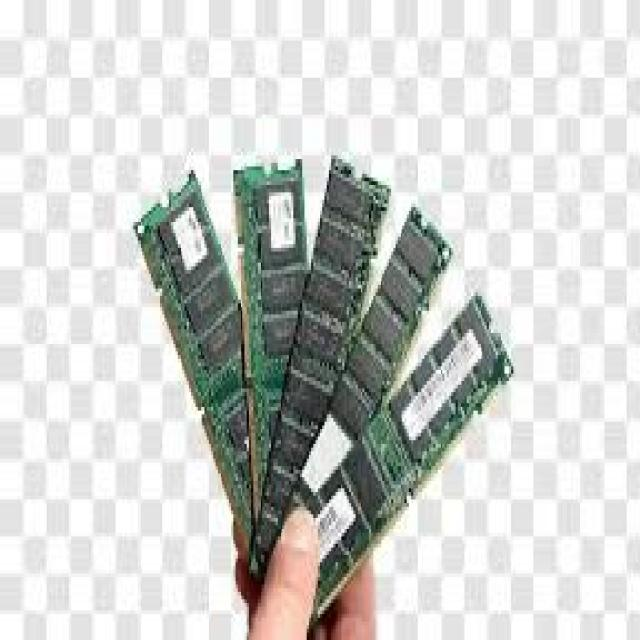Ram: (104, 77, 510, 543)
